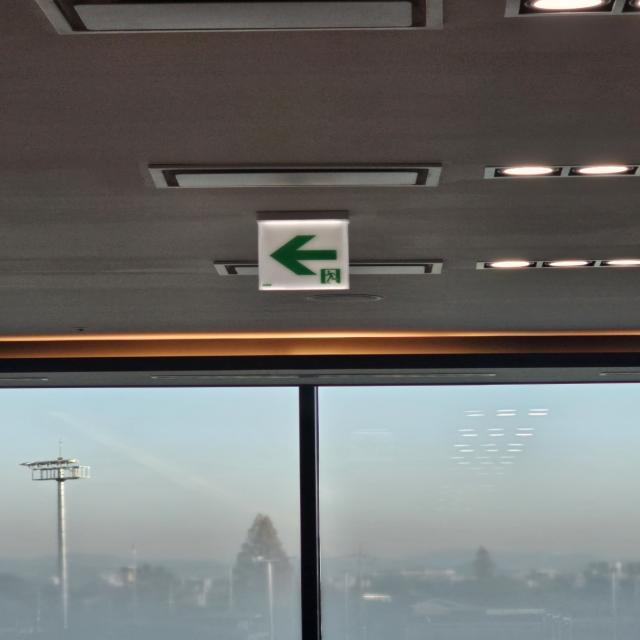person: (257, 220, 349, 290)
